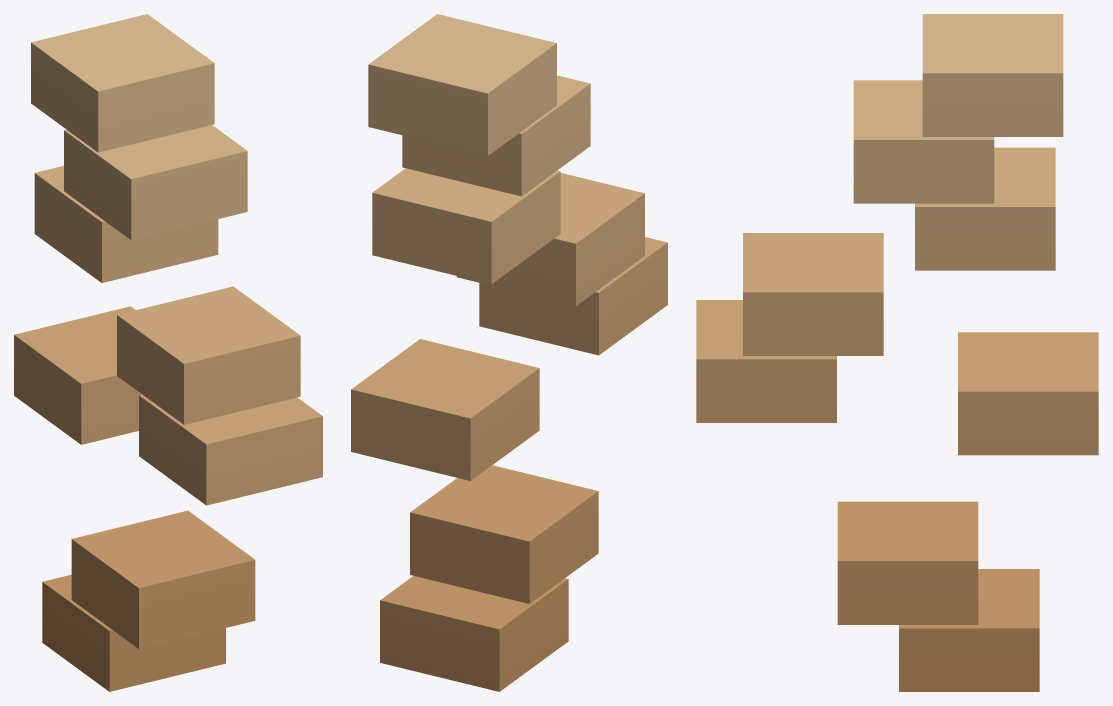
3 renders of one model, left to right at view 1: azimuth 30°, elevation 25°; view 2: azimuth 150°, elevation 25°; view 3: azimuth 270°, elevation 25°, orthographic. The views are drawn at different scales.
Parts seen in each view (by area): view 1: Cube.035; view 2: Cube.035; view 3: Cube.035.
Part boxes in pixels (x1,y1,x2,y2): Cube.035: (14,14,322,691); Cube.035: (351,14,667,691); Cube.035: (696,14,1098,691).
Bounding box in the file's own units: 0.1812 × 0.8798 × 0.5183.
Materials: 1 (1 with a texture image).
